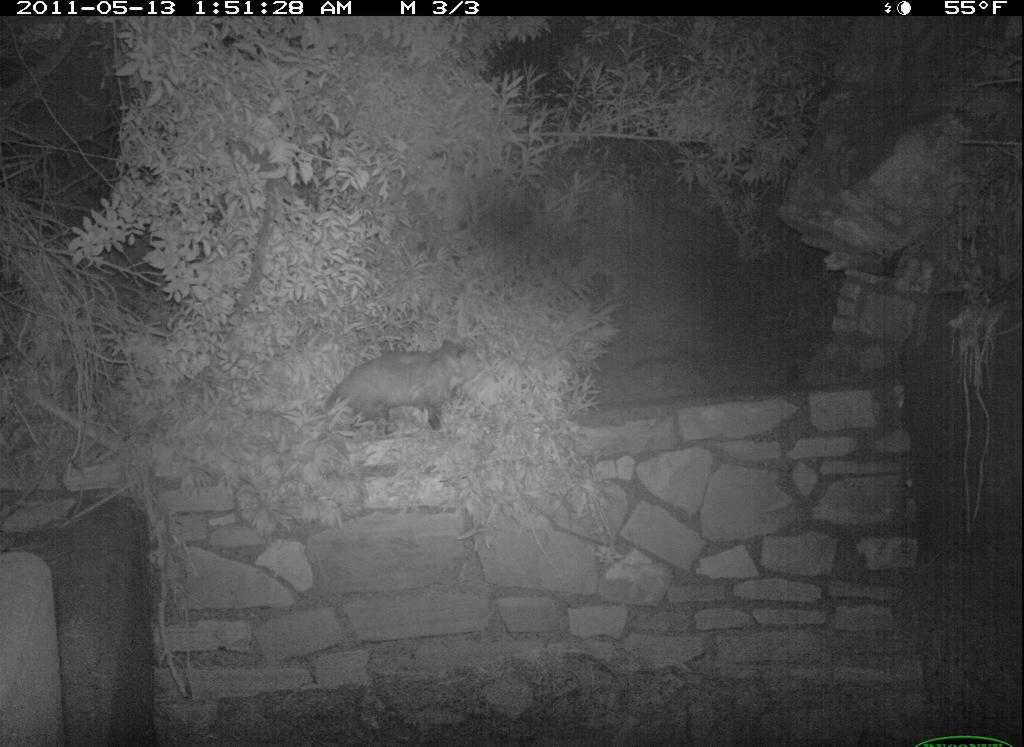opossum: (310, 332, 491, 440)
